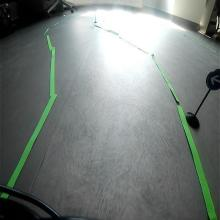left: (205, 67, 220, 93)
